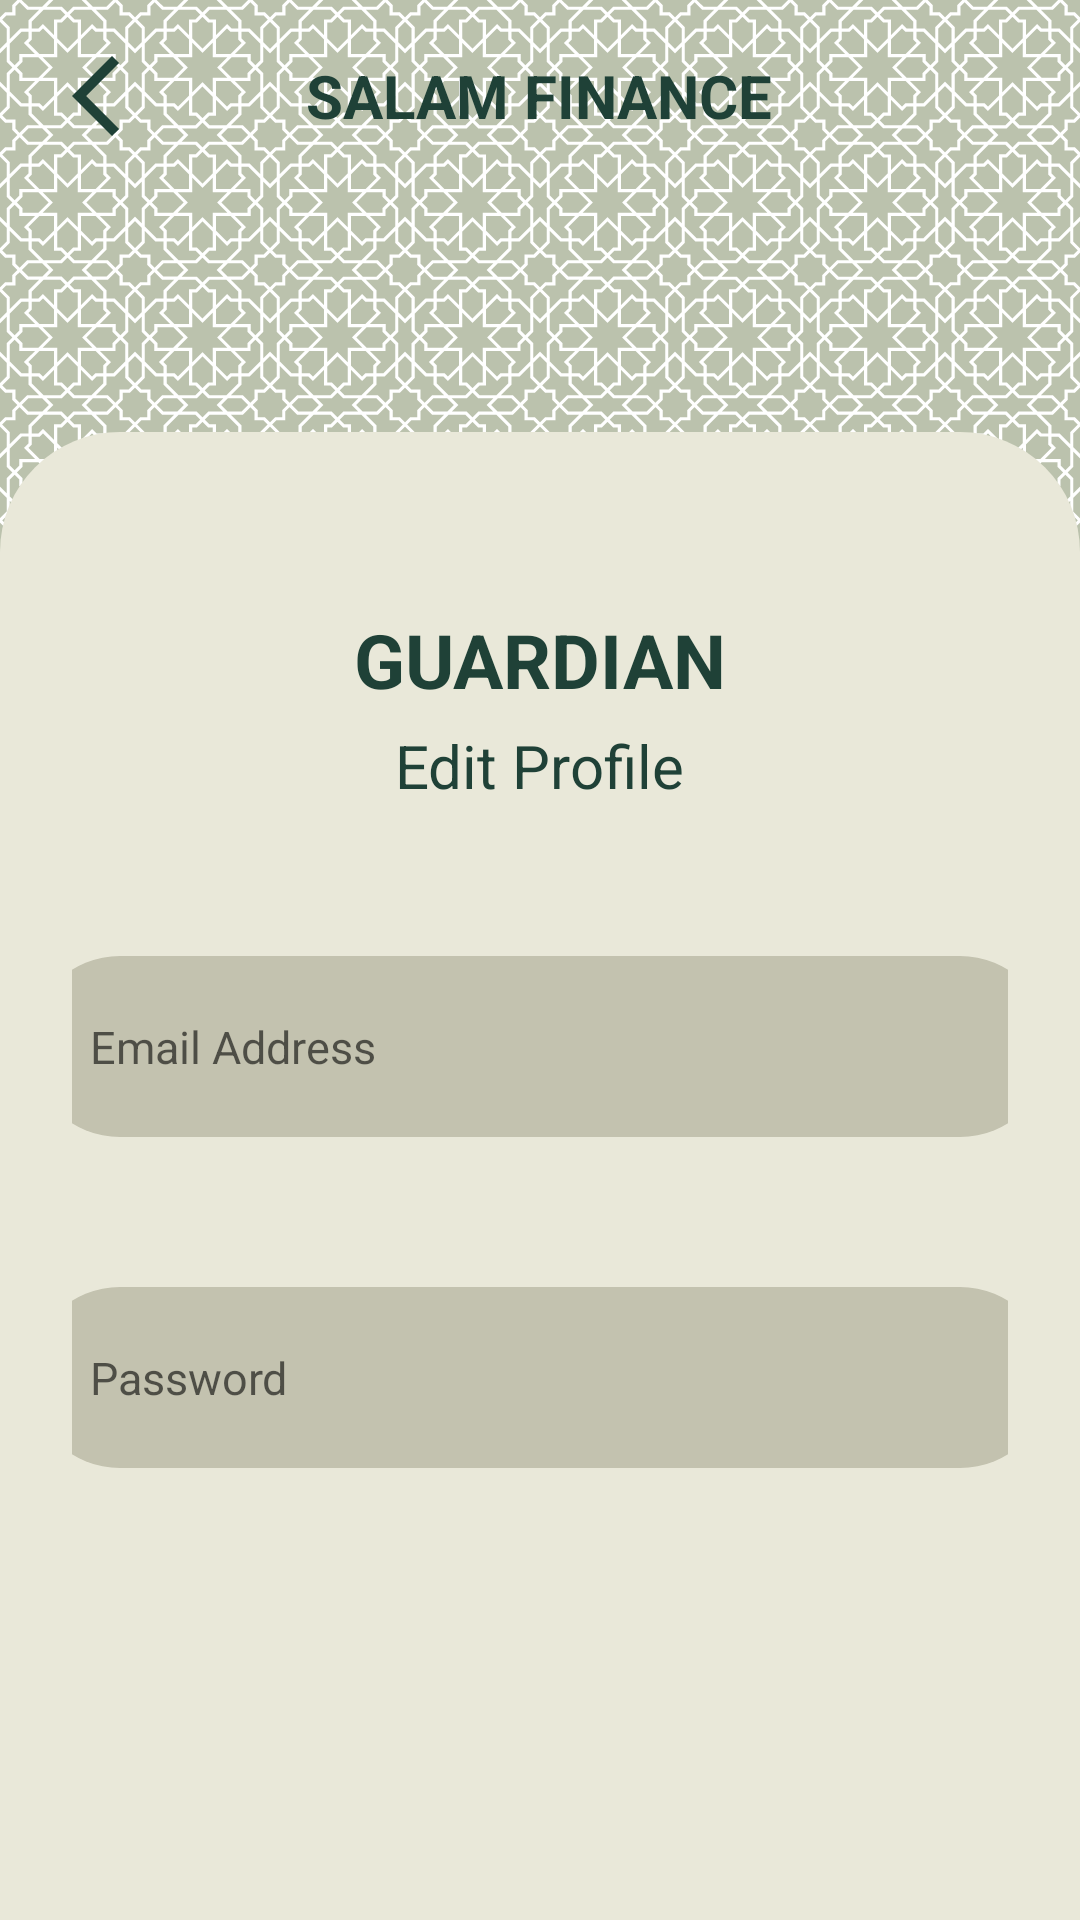

Locate icon controls on the screen. Image size 1080x1920, boxes as (x1, y1, x2, y2).
arrow back: (48, 48, 144, 144)
